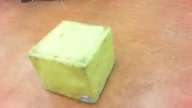cube: (28, 19, 115, 104)
